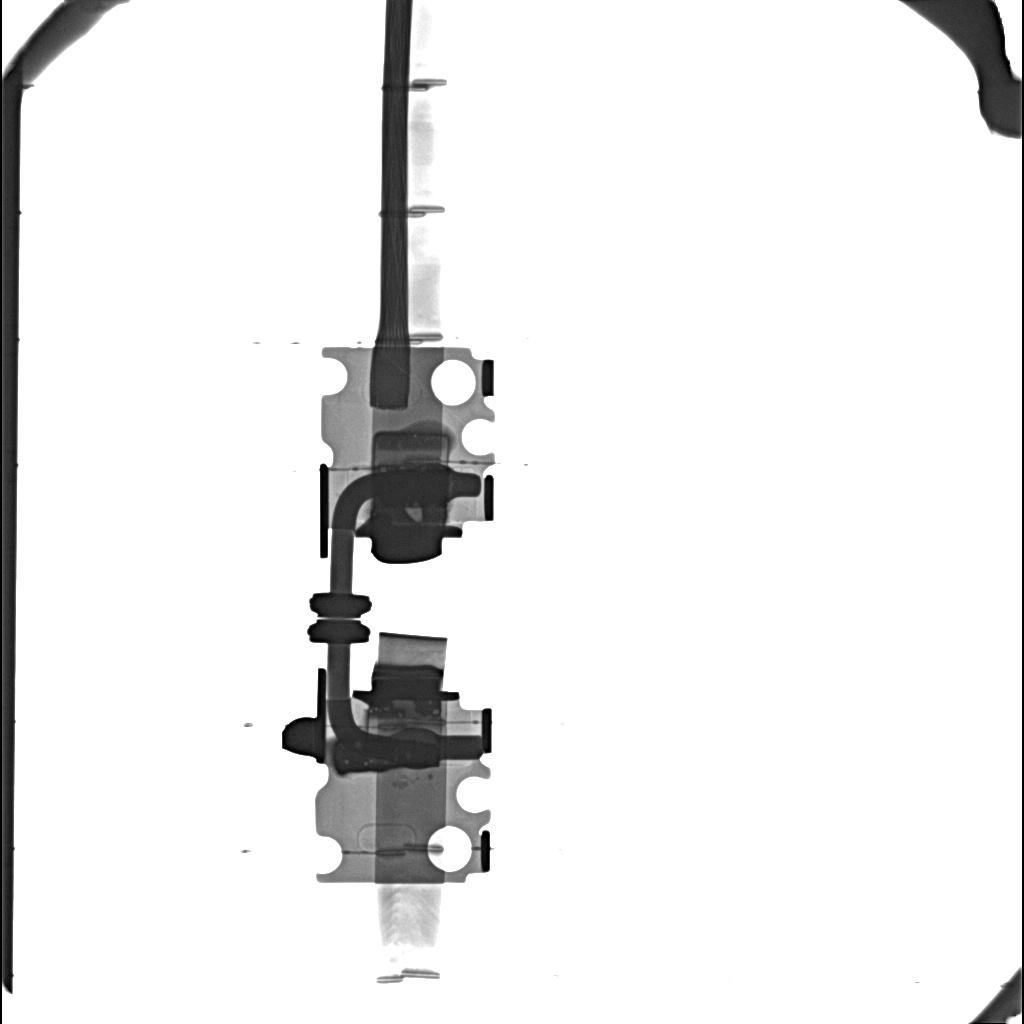defect: (334, 736, 440, 775), (373, 468, 450, 506), (372, 431, 450, 467), (406, 508, 423, 521)
